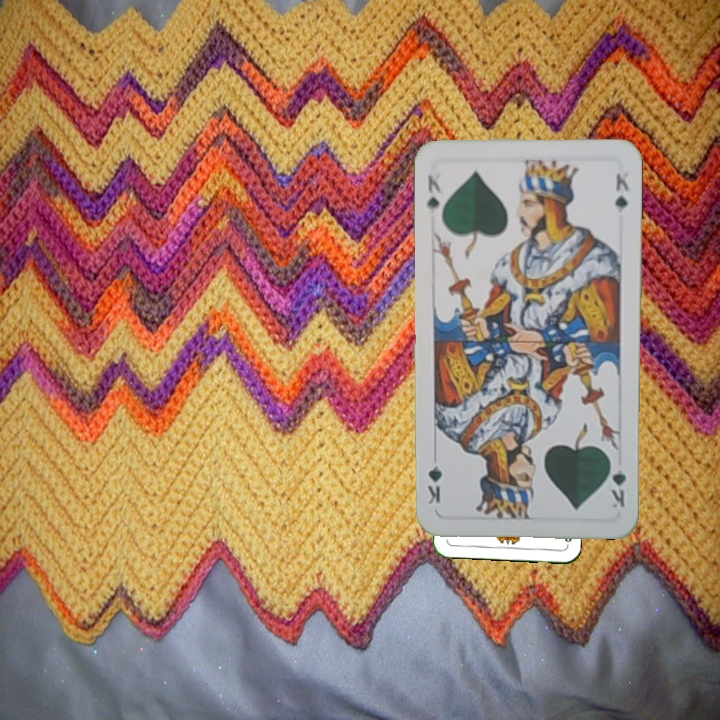GK: (606, 454, 628, 513), (423, 170, 446, 212)
